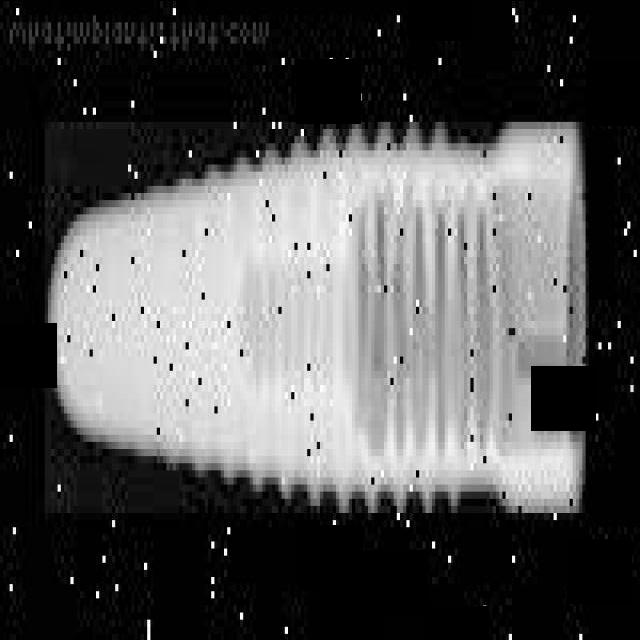Root canal obturation: (38, 121, 588, 528)
